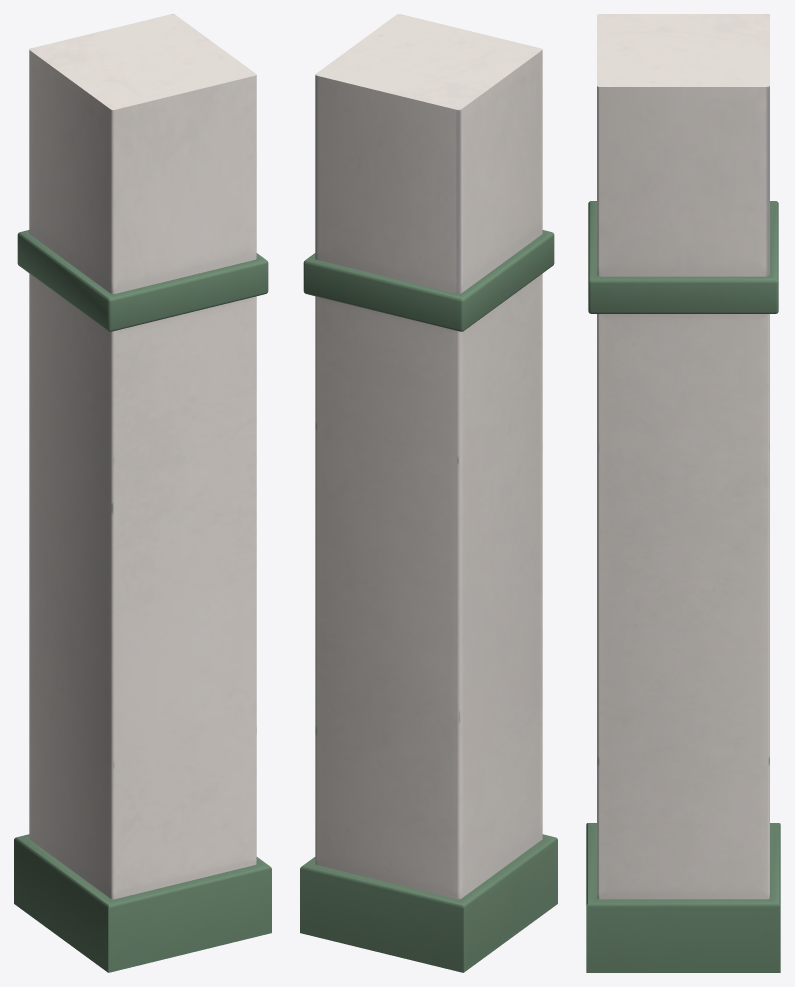
The model's file is pillar_Pillar.gltf.
The picture shows the model from 3 angles, left to right: view 1: azimuth 30°, elevation 25°; view 2: azimuth 150°, elevation 25°; view 3: azimuth 270°, elevation 25°; orthographic projection. The views are drawn at different scales.
Visible parts, largest first — view 1: node0; view 2: node0; view 3: node0.
Part boxes in pixels (x1,y1,x2,y2): node0: (14, 14, 271, 972); node0: (300, 14, 557, 972); node0: (586, 14, 780, 972).
Size of the model in its own units: 0.9439 by 4.72 by 0.9439.
Materials: 1 (1 with a texture image).
